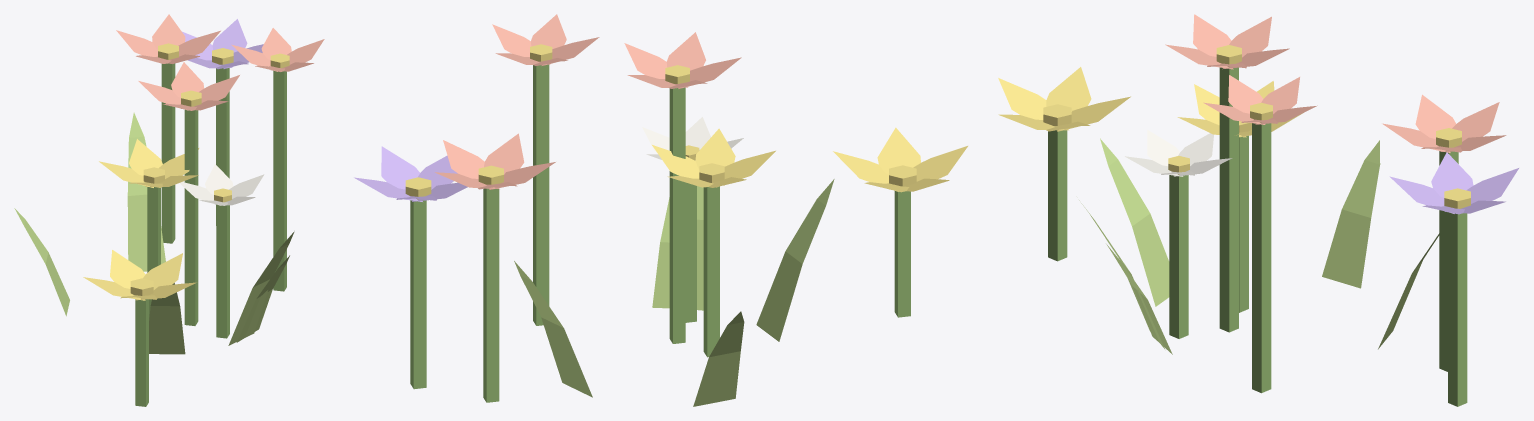
Rendered from Decor_Flowers.fbx.
3 views of the same model, side by side, from view 1: azimuth 30°, elevation 25°; view 2: azimuth 150°, elevation 25°; view 3: azimuth 270°, elevation 25° (orthographic). The views are drawn at different scales.
Visible parts, largest first — view 1: Decor_Flowers; view 2: Decor_Flowers; view 3: Decor_Flowers.
Boxes of the visible parts, x1=… form: Decor_Flowers: x1=14, y1=14, x2=324, y2=406; Decor_Flowers: x1=354, y1=14, x2=967, y2=406; Decor_Flowers: x1=998, y1=14, x2=1518, y2=406.
Bounding box in the file's own units: 0.5937 × 0.4028 × 0.6508.
